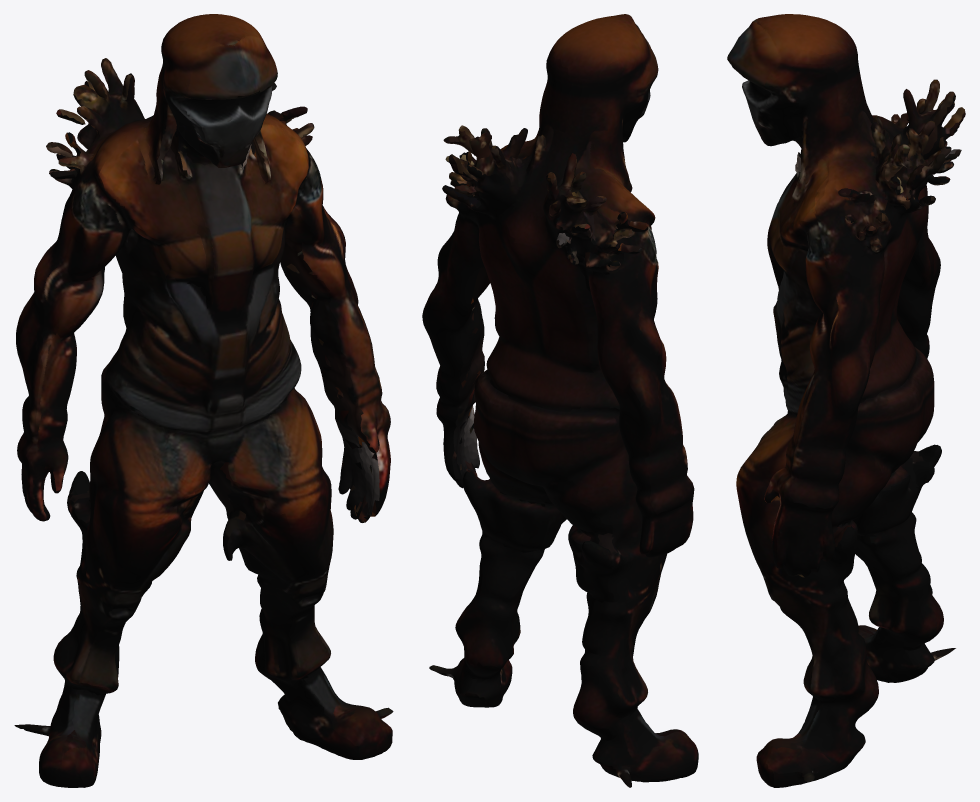
The model's file is special-stalker-stalker.glb.
3 views of the same model, side by side, from view 1: azimuth 30°, elevation 25°; view 2: azimuth 150°, elevation 25°; view 3: azimuth 270°, elevation 25° (orthographic). The views are drawn at different scales.
Visible parts, largest first — view 1: tmppw1hpfx2.ply; view 2: tmppw1hpfx2.ply; view 3: tmppw1hpfx2.ply.
Part boxes in pixels (bbox=[...]): tmppw1hpfx2.ply: bbox=[14, 14, 393, 787]; tmppw1hpfx2.ply: bbox=[422, 14, 698, 787]; tmppw1hpfx2.ply: bbox=[727, 14, 965, 787].
Size of the model in its own units: 0.8905 by 1.96 by 0.6083.
Materials: 1 (1 with a texture image).
